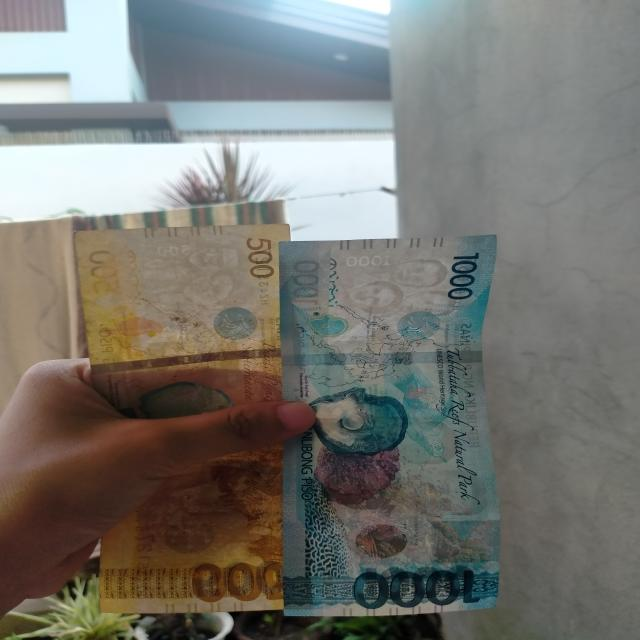security_thread: (86, 348, 282, 373), (281, 351, 486, 367)
value: (342, 565, 491, 606), (183, 558, 290, 608)
value_watermark: (346, 255, 394, 268), (154, 241, 189, 258)
watermark: (130, 237, 270, 316), (330, 254, 466, 326)
